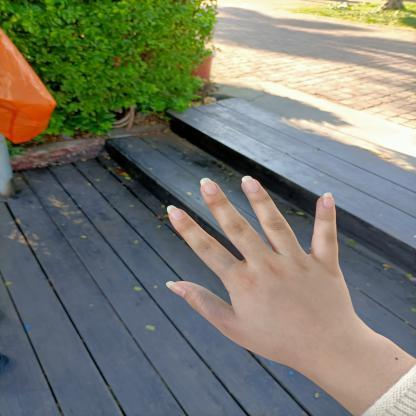bare_hand: (144, 166, 390, 372)
